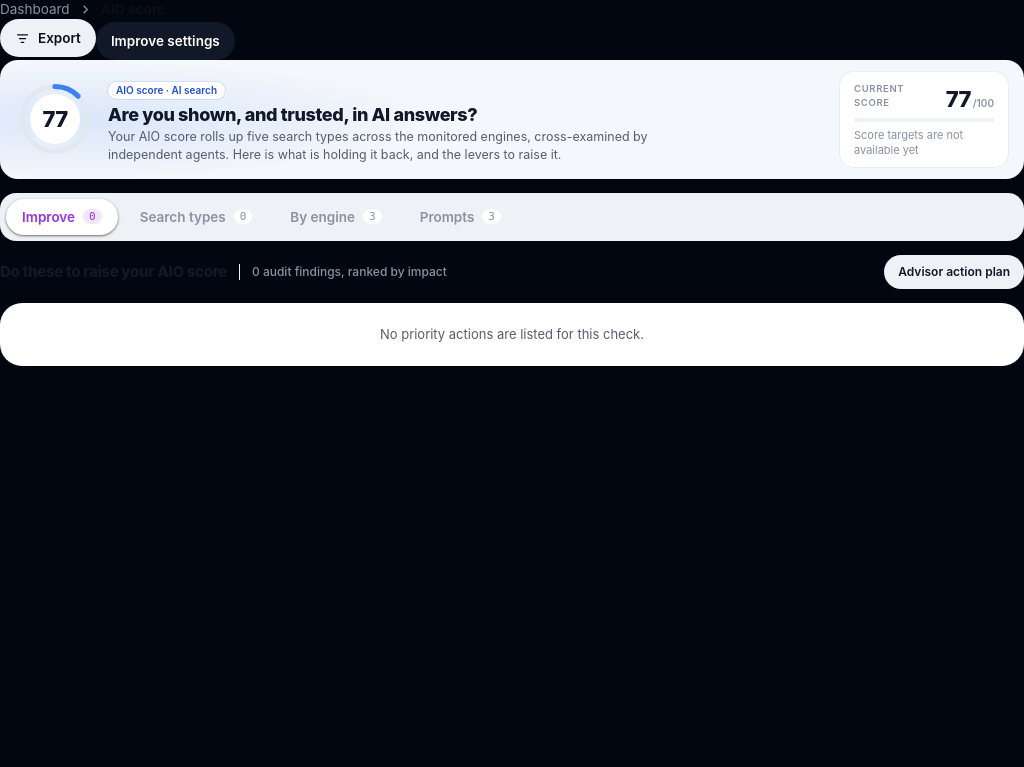
Test: ProjectAeoPage (approved AIO detail) › asks for the prompt text instead of doing nothing when it is empty
The width and height of the screenshot is (1024, 767).
What coordinates should you click on to do the following:
click the tab "Prompts 3"
I would click on:
 (460, 217)
Its box is [404, 199, 517, 235].
(page scrolled)
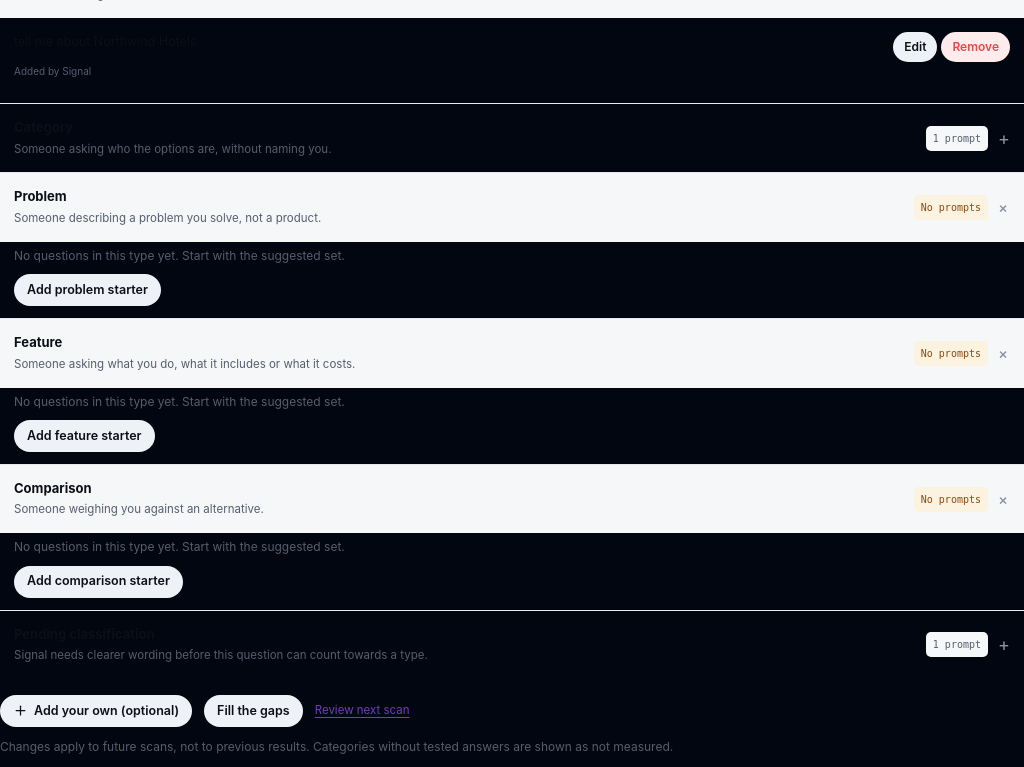
Check: the button "Add your own (optional)" is shown
What coordinates should you click on to do the following:
click the button "Add your own (optional)"
I would click on:
 (96, 711)
Its box is [0, 695, 192, 727].
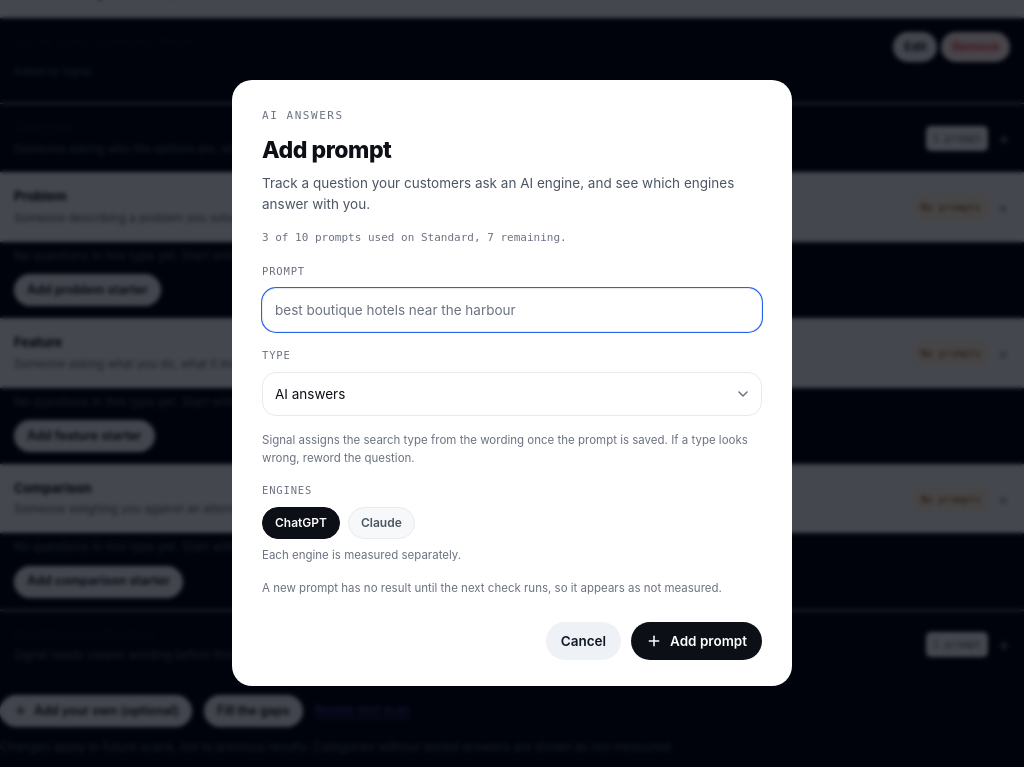
What coordinates should you click on to do the following:
click the button "Add prompt"
I would click on:
 (697, 641)
Its box is [631, 622, 762, 660].
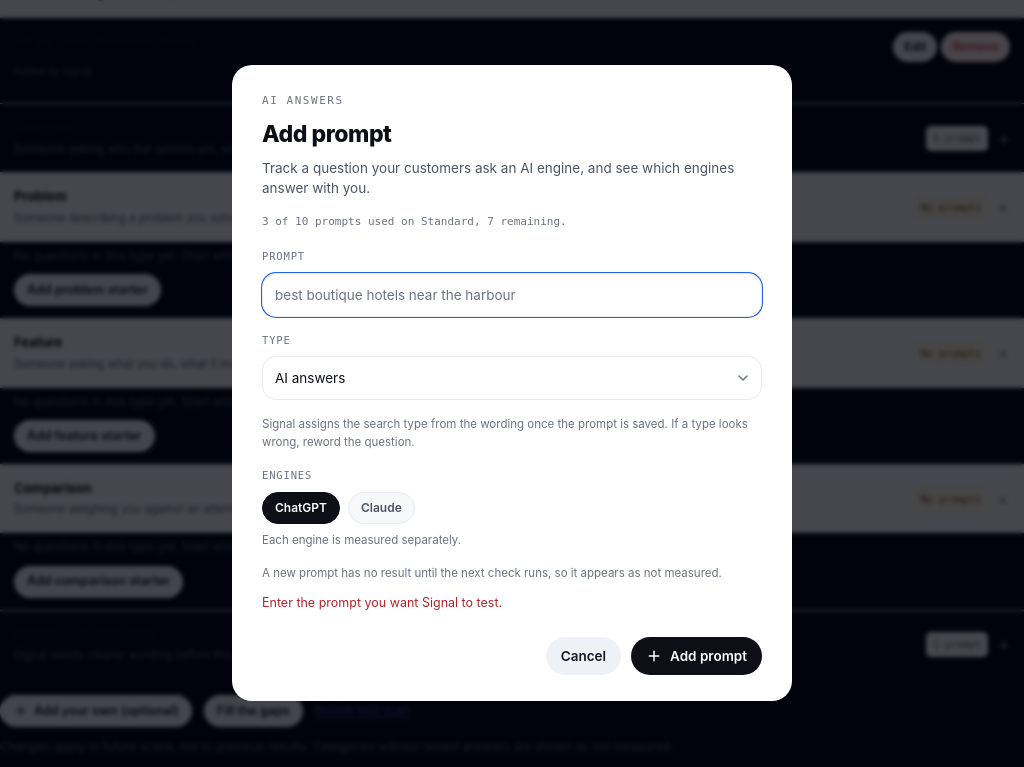
Check: the text "Enter the prompt you want Signal to test." is shown, box [262, 595, 502, 610]
